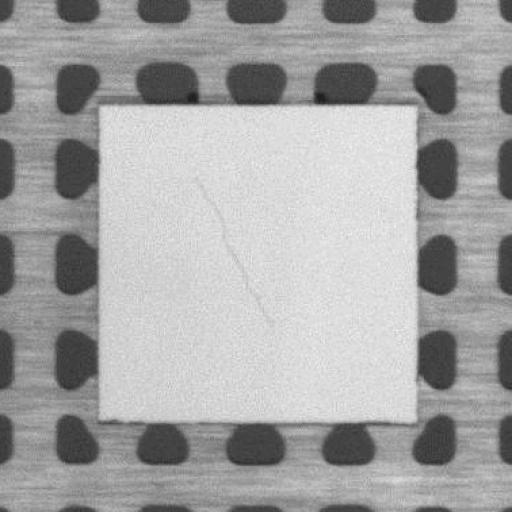DIE_CRACK: (191, 174, 276, 332)
